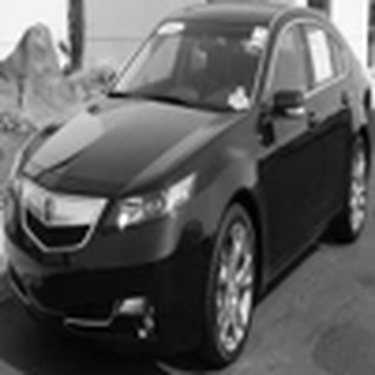car: (1, 1, 372, 372)
